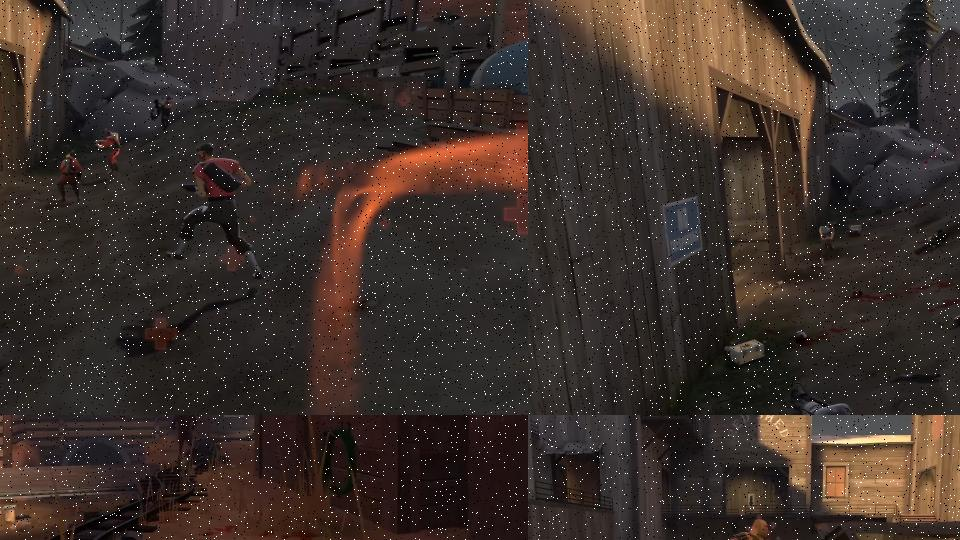Enemy: (165, 141, 265, 280), (52, 150, 87, 203), (168, 415, 200, 471), (94, 130, 122, 175), (150, 95, 175, 131), (819, 222, 836, 267)
